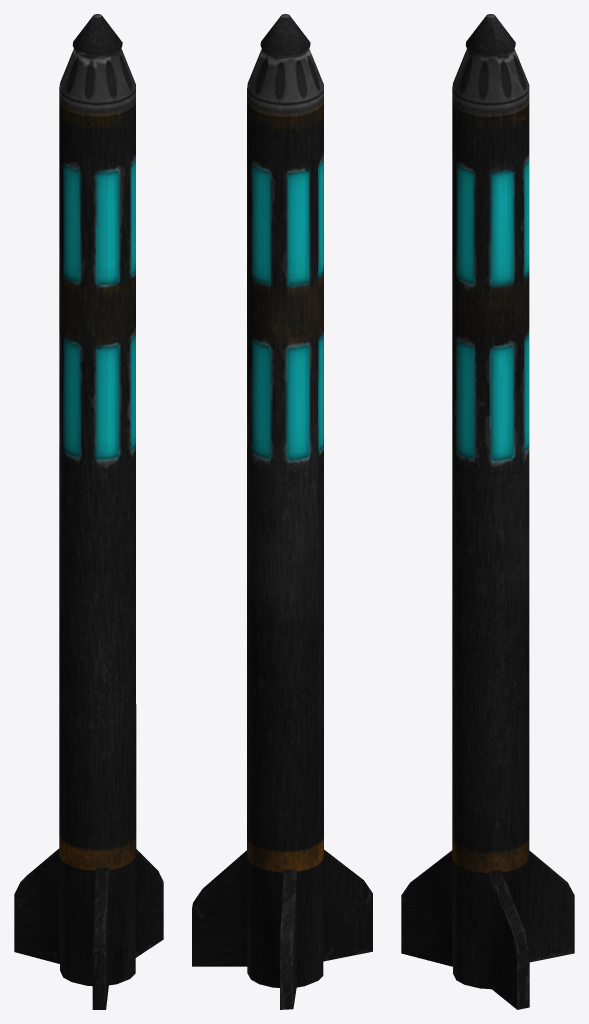
File: Ammo_Rocket_launcher_lod0.FBX
The picture shows the model from 3 angles, left to right: view 1: azimuth 30°, elevation 25°; view 2: azimuth 150°, elevation 25°; view 3: azimuth 270°, elevation 25°; orthographic projection.
Parts seen in each view (by area): view 1: LP_Rpcket; view 2: LP_Rpcket; view 3: LP_Rpcket.
Part boxes in pixels (box(x1,y1,x2,y2)): LP_Rpcket: box(14, 14, 163, 1009); LP_Rpcket: box(192, 14, 372, 1009); LP_Rpcket: box(401, 14, 574, 1009).
Size of the model in its own units: 53.82 by 392 by 64.23.
